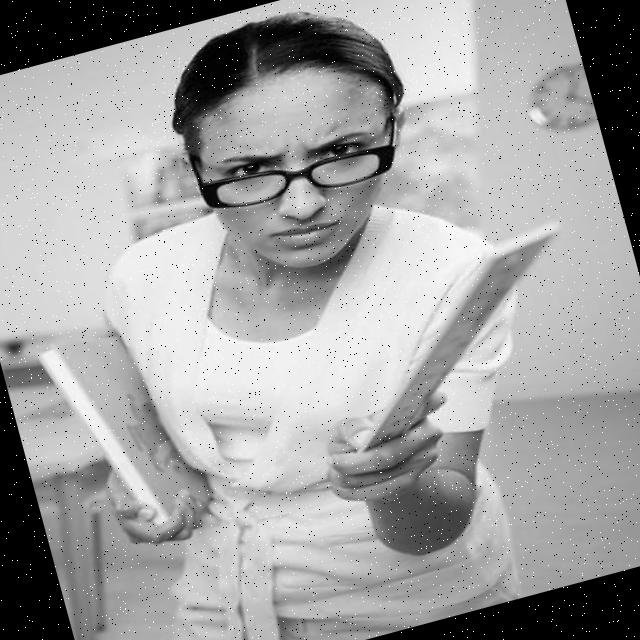Angry: (180, 52, 421, 288)
